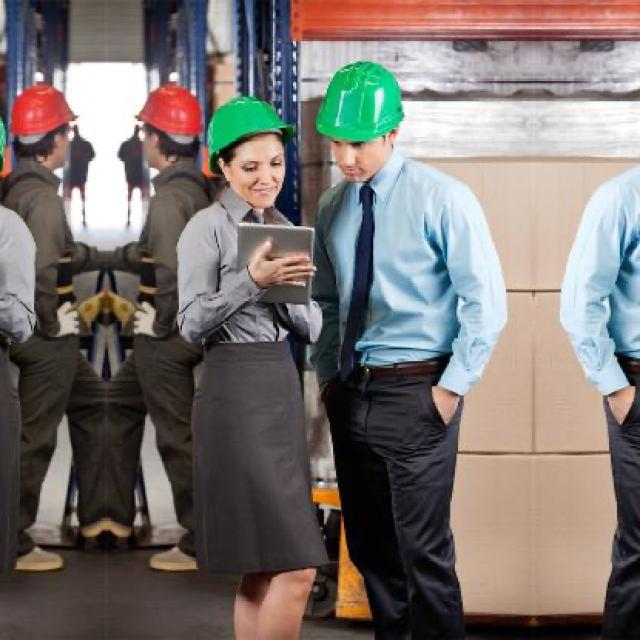con casco: (3, 60, 101, 191), (196, 91, 296, 219), (130, 64, 222, 172)
